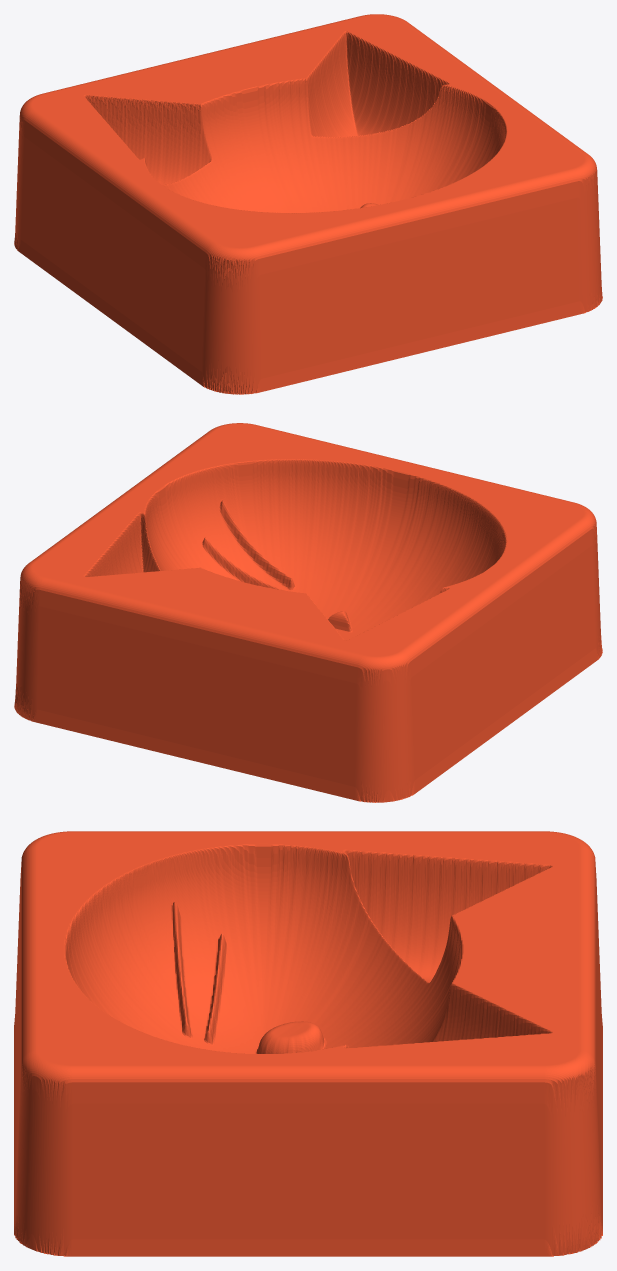
Rendered from mold.glb.
3 renders of one model, top to bottom at view 1: azimuth 30°, elevation 25°; view 2: azimuth 150°, elevation 25°; view 3: azimuth 270°, elevation 25°, orthographic. The views are drawn at different scales.
Visible parts, largest first — view 1: geometry_0; view 2: geometry_0; view 3: geometry_0.
Boxes of the visible parts, <box> form: geometry_0: <box>14,14,602,394</box>; geometry_0: <box>14,423,602,802</box>; geometry_0: <box>14,831,602,1256</box>.
Bounding box in the file's own units: 0.0924 × 0.031 × 0.0912.
